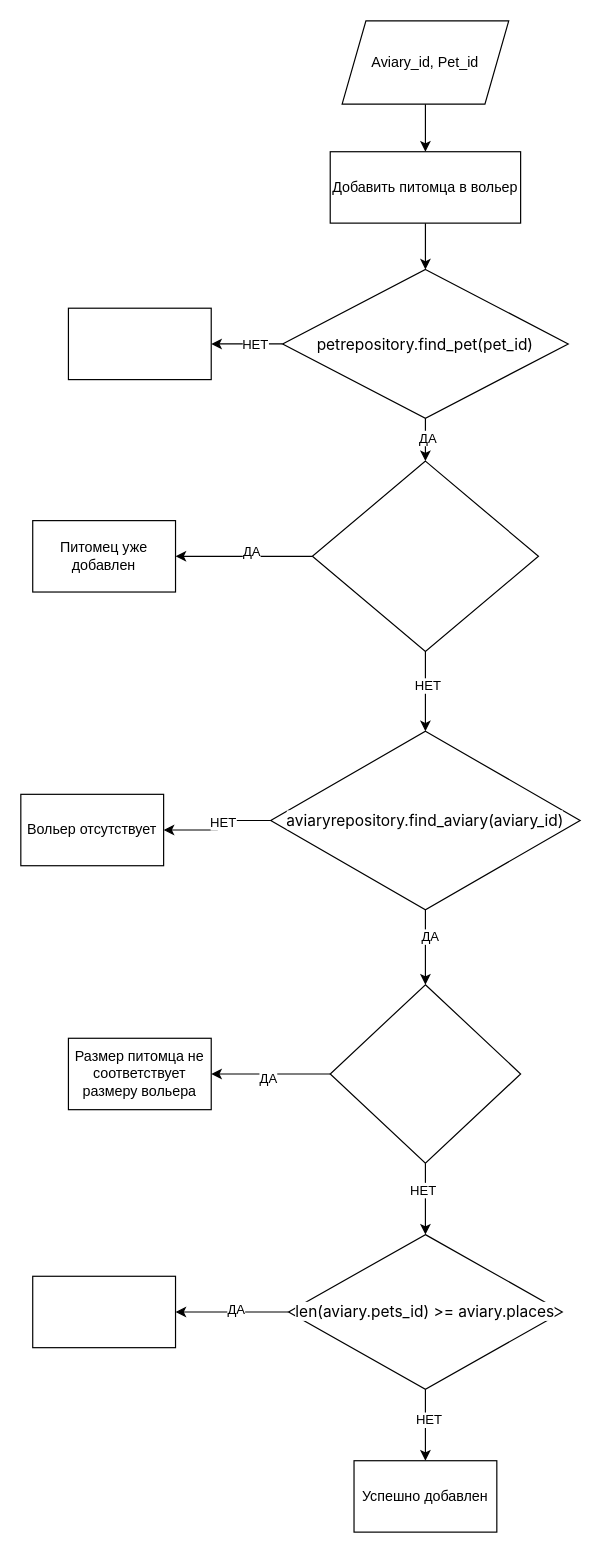
This 601x1553 diagram has some shape labels left out. The centre of each missing label's shape, as x and y in pixels:
aviary.size != pet.size: the point at 425,1073
Вольер переполнен: the point at 104,1311
Питомец уже присутствует в другом вольере: the point at 424,556
Такой питомец не найден: the point at 139,343
